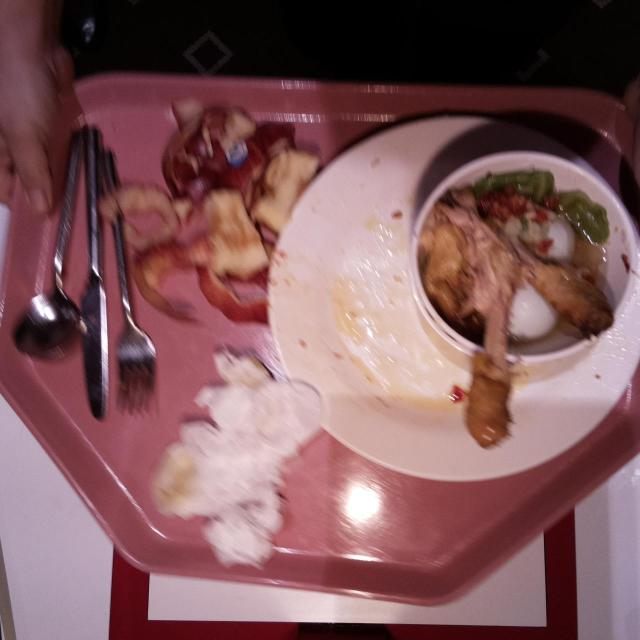Apple-core: (248, 151, 322, 235), (203, 190, 267, 280)
Apple-peel: (161, 106, 295, 198), (99, 182, 184, 250), (196, 251, 268, 325)
Bone: (507, 240, 611, 334), (463, 291, 513, 448)
Meat: (421, 219, 477, 315)
Vegetable: (556, 189, 610, 245), (474, 168, 555, 198)
